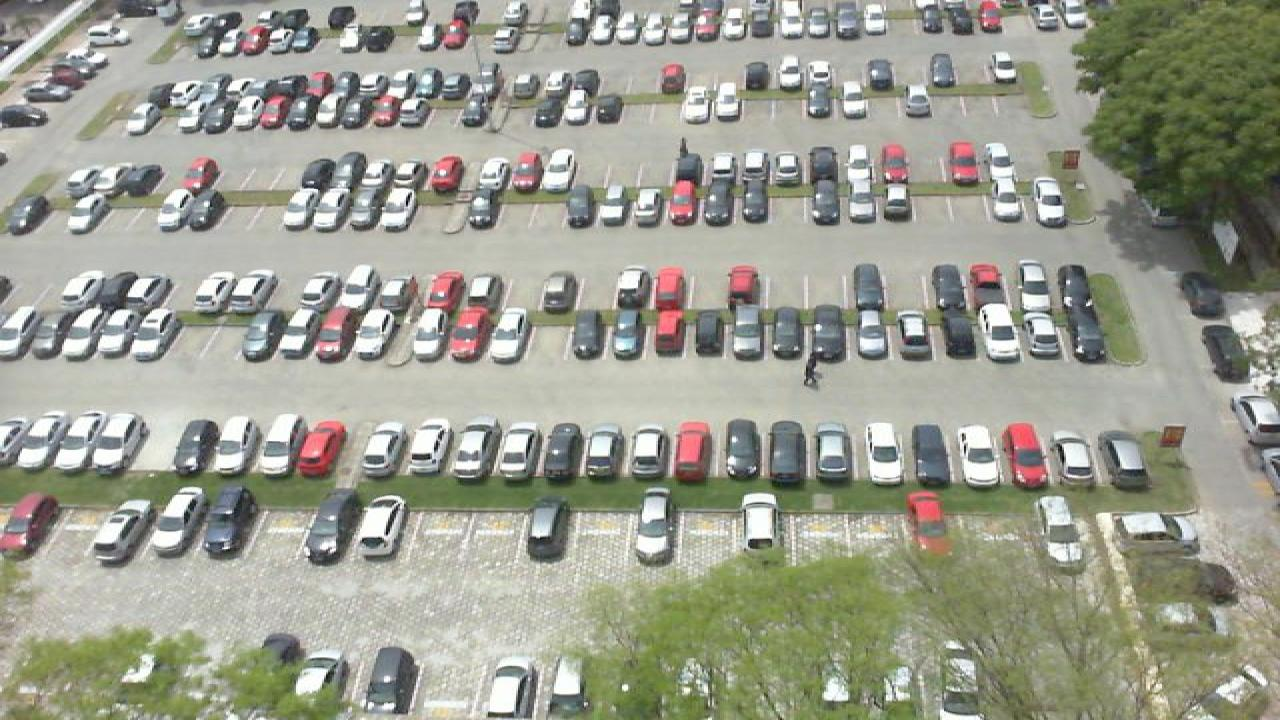Car: (300, 487, 362, 558), (0, 492, 62, 554), (1032, 493, 1084, 565), (202, 486, 256, 555), (152, 487, 204, 554), (90, 501, 150, 559), (354, 495, 406, 559), (26, 408, 82, 467), (1096, 429, 1152, 487), (906, 490, 954, 557), (1002, 421, 1050, 488), (630, 487, 674, 559), (522, 496, 572, 559), (958, 422, 1004, 487), (976, 300, 1024, 362), (910, 421, 954, 487), (356, 419, 408, 474), (810, 420, 854, 484), (862, 421, 906, 485), (254, 413, 300, 474), (294, 420, 344, 476), (1112, 511, 1202, 542), (1046, 431, 1096, 486), (402, 421, 450, 478), (70, 412, 118, 468), (766, 418, 808, 482), (212, 414, 258, 472), (132, 308, 182, 361), (448, 420, 494, 477), (722, 418, 764, 480), (1062, 305, 1106, 363), (104, 415, 150, 470), (494, 422, 540, 477), (540, 421, 584, 478), (582, 426, 630, 478), (172, 418, 218, 472), (672, 420, 714, 479), (312, 305, 356, 361), (396, 306, 440, 362), (444, 305, 488, 361), (738, 493, 780, 551), (626, 423, 670, 478), (1020, 304, 1064, 359), (20, 306, 64, 360), (936, 308, 980, 361), (352, 306, 394, 361), (852, 306, 894, 361), (240, 309, 284, 360), (0, 413, 40, 469), (690, 306, 730, 361), (808, 306, 848, 361), (894, 309, 936, 360), (58, 307, 98, 360), (96, 306, 136, 359), (280, 307, 320, 360), (570, 307, 610, 360), (730, 304, 768, 359), (928, 264, 972, 310), (768, 305, 804, 361), (482, 307, 520, 360), (1014, 259, 1054, 309), (1060, 260, 1100, 309), (230, 268, 274, 312), (850, 261, 890, 309), (966, 262, 1006, 310), (650, 307, 686, 360), (610, 308, 646, 360), (336, 264, 376, 310), (990, 176, 1026, 226), (1030, 176, 1066, 226), (0, 304, 32, 360), (612, 266, 650, 312), (726, 264, 764, 310), (812, 178, 848, 226), (540, 271, 580, 314), (94, 268, 134, 310), (422, 270, 462, 312), (652, 264, 688, 310), (192, 272, 232, 313), (58, 270, 100, 308), (130, 274, 172, 312), (466, 268, 502, 312), (284, 187, 320, 231), (738, 178, 770, 227), (316, 186, 350, 232), (560, 182, 594, 228), (948, 138, 982, 184), (466, 185, 500, 230), (300, 272, 338, 312), (702, 179, 734, 226), (880, 179, 914, 223), (350, 186, 382, 232), (668, 179, 700, 225), (632, 181, 664, 226), (596, 184, 628, 228), (542, 148, 574, 192), (846, 178, 876, 224), (382, 186, 414, 229), (380, 271, 414, 311), (878, 141, 912, 181), (300, 155, 336, 191), (810, 144, 842, 183), (430, 154, 462, 192), (336, 151, 366, 190), (478, 155, 510, 191), (510, 154, 540, 192), (400, 158, 432, 192), (672, 150, 704, 184), (738, 147, 770, 181), (366, 154, 396, 190), (708, 148, 738, 182), (846, 149, 876, 181), (774, 152, 802, 183)
